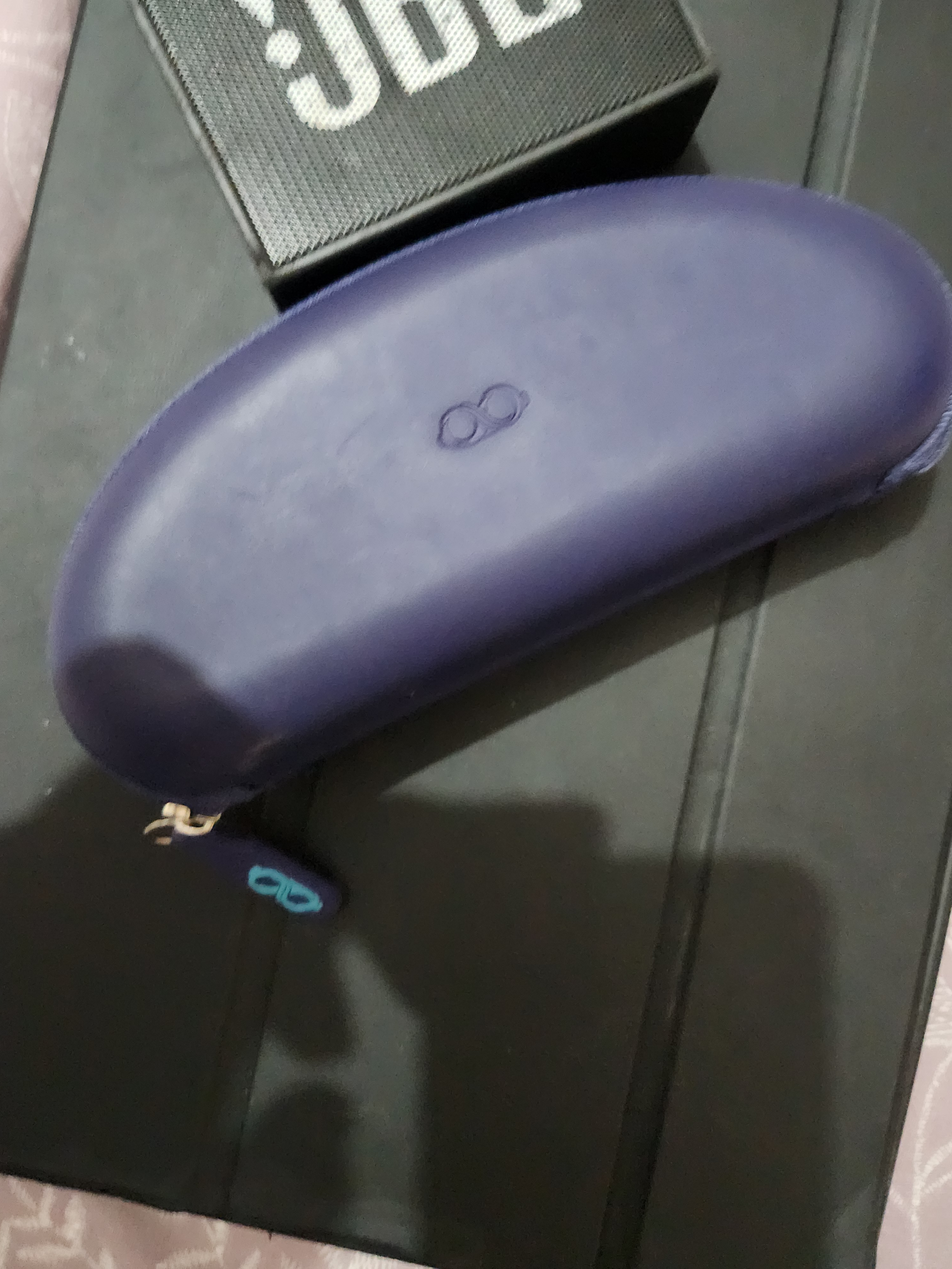case: (50, 175, 951, 919)
speaker: (117, 0, 727, 283)
